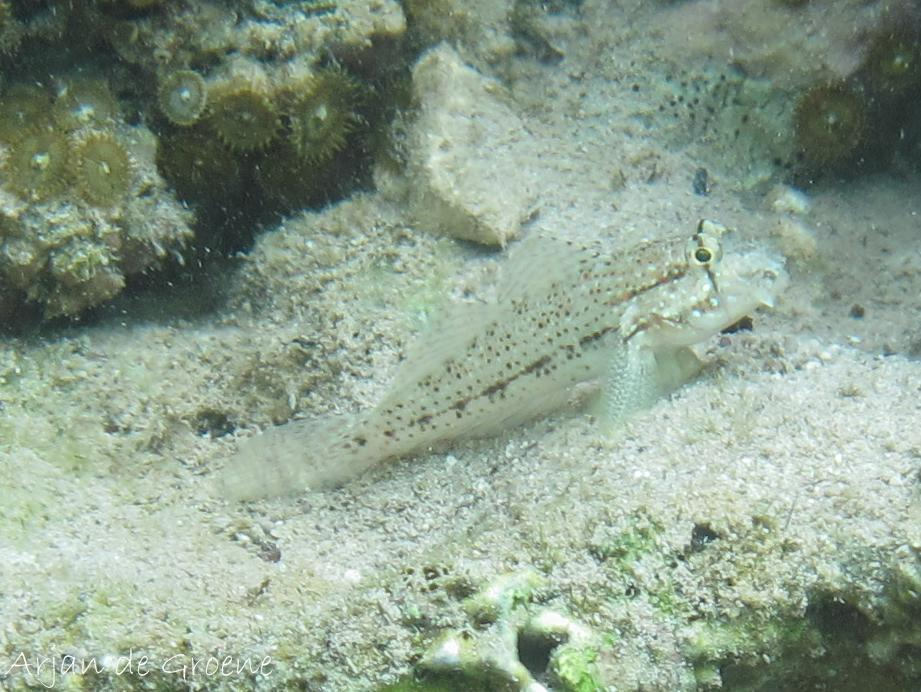Fish: (196, 212, 826, 509)
